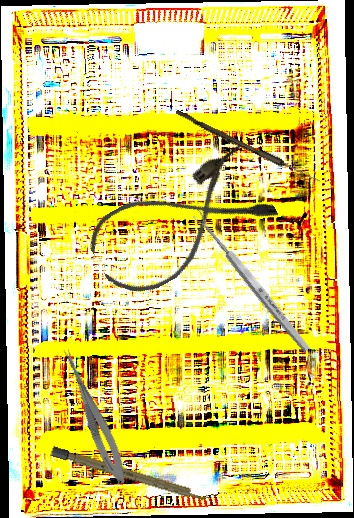Cannula: (79, 141, 282, 308)
Micro Scissor: (54, 345, 133, 488)
Scalpel Handle: (50, 445, 212, 505)
Surgical Spoon: (191, 209, 313, 355), (173, 109, 323, 185)
